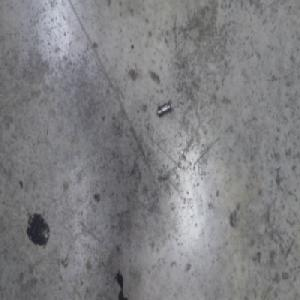Bolt: (156, 101, 172, 120)
